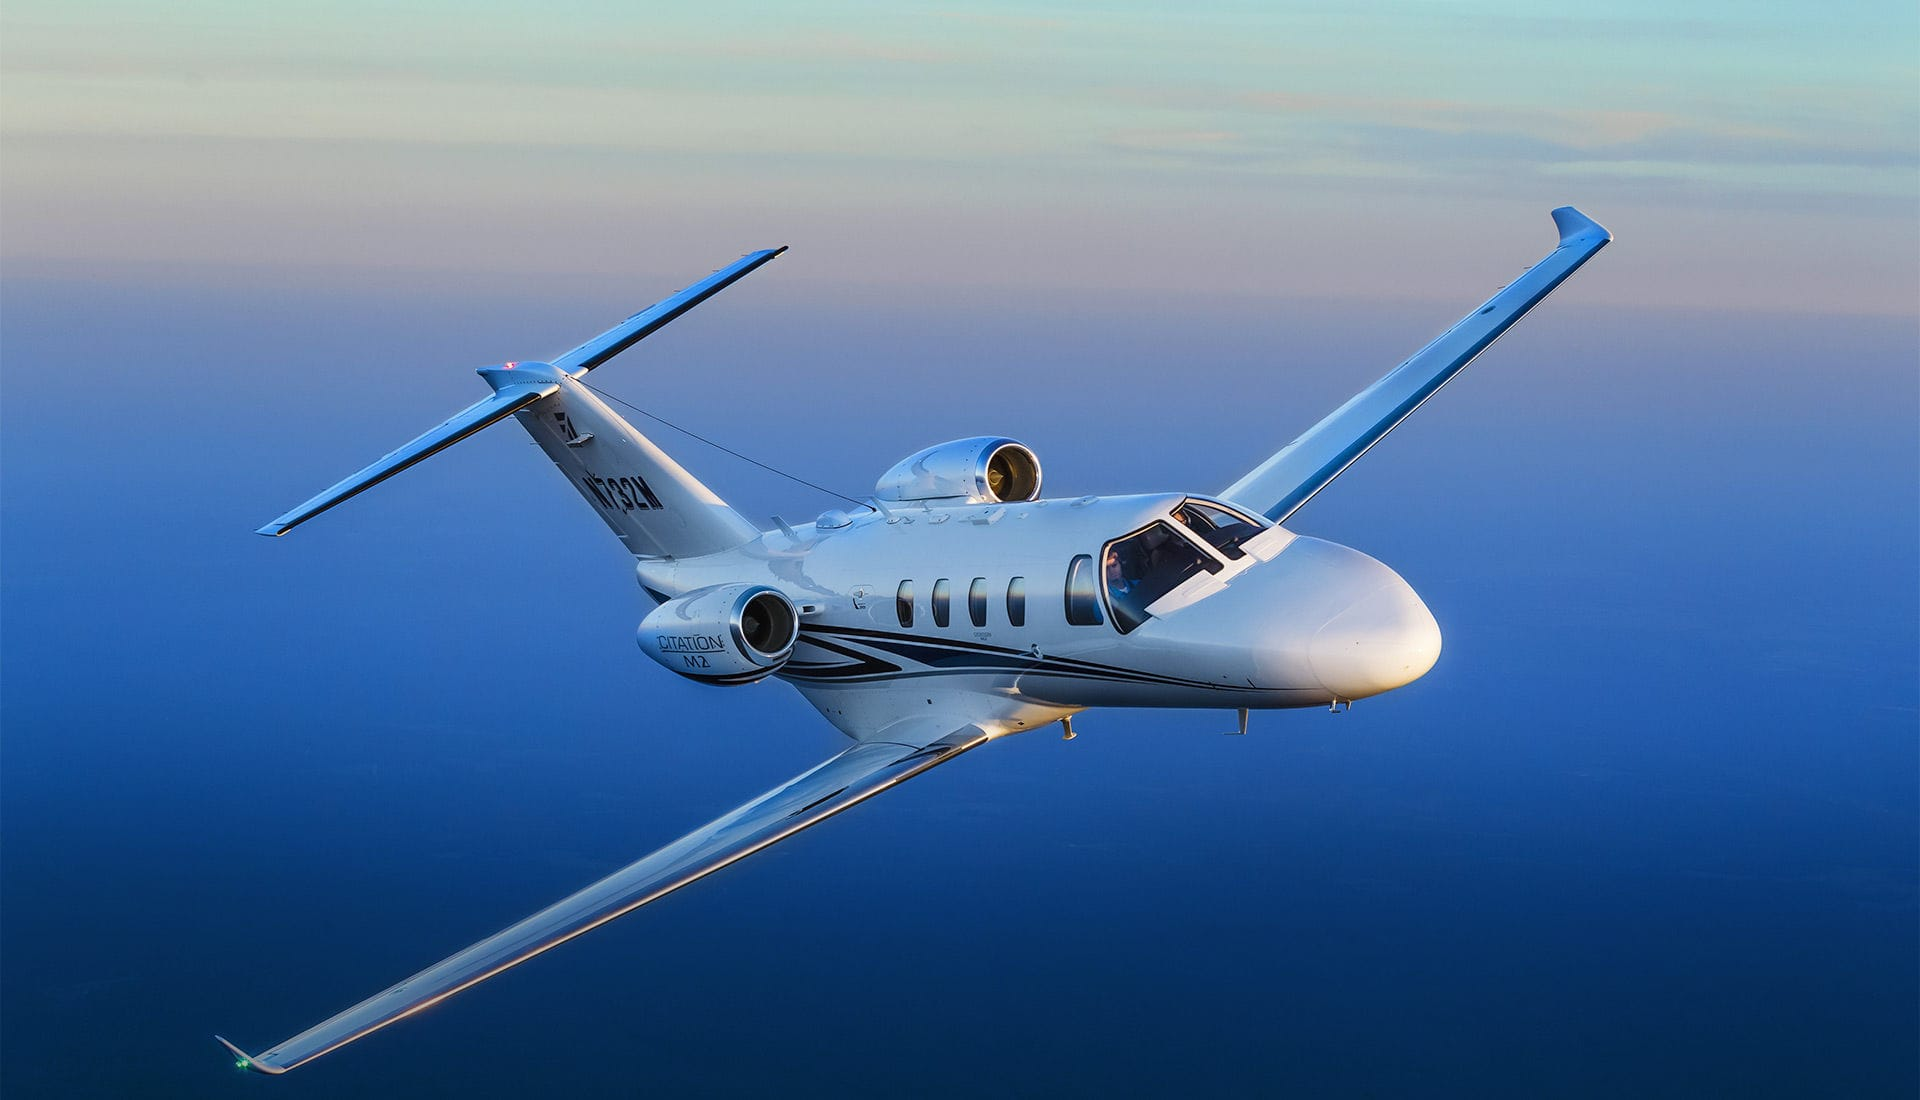Aeronef_commercial: (204, 175, 1621, 1082)
